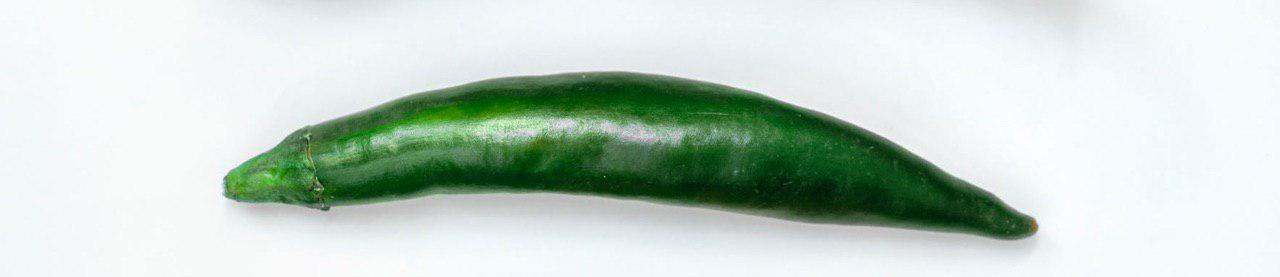lada hijau: (212, 35, 1082, 274)
